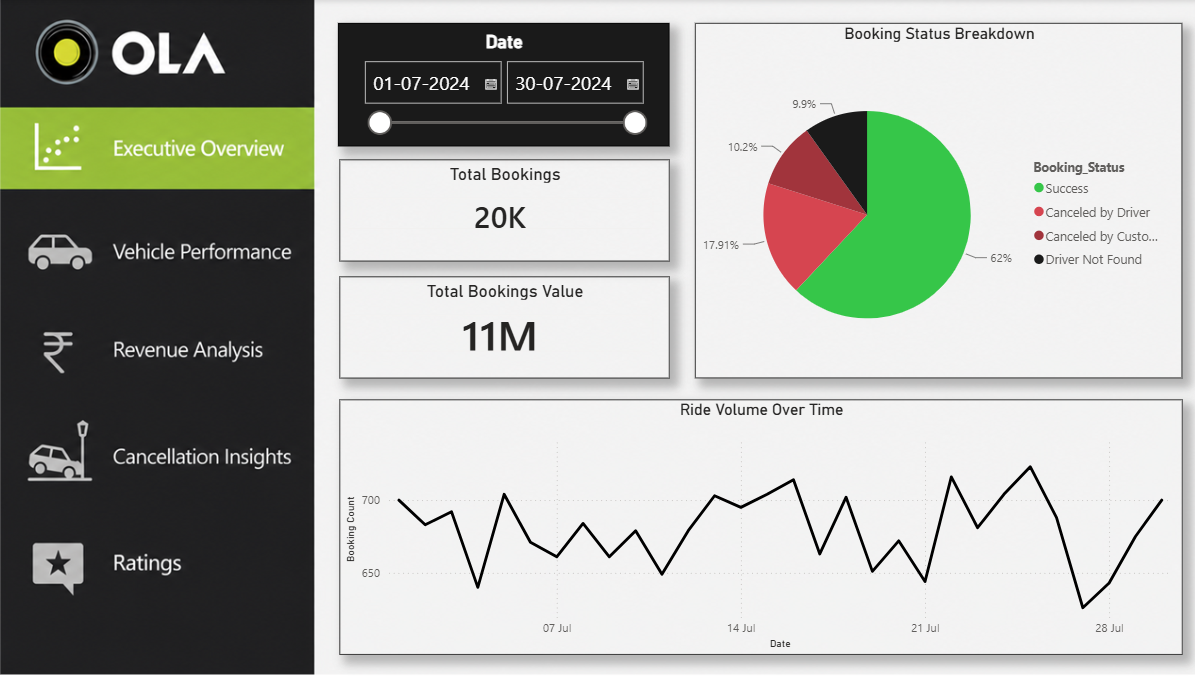

What the dashboard file says about the page in this screenshot:
{"tool":"powerbi","page":{"name":"Overall","canvas":[1280,720],"ordinal":0},"visuals":[{"type":"actionButton","box":[3.2,559.9,332.4,87.5],"z":0},{"type":"actionButton","box":[0,442.2,335.6,97],"z":1000},{"type":"actionButton","box":[1.6,332.4,334,81.1],"z":2000},{"type":"actionButton","box":[0,224.3,335.6,90.7],"z":3000},{"type":"actionButton","box":[1.6,112.9,334,89.1],"z":4000},{"type":"lineChart","title":"Ride Volume Over Time","fields":{"Category":["Bookings.Date"],"Y":["CountNonNull(Bookings.Booking_ID)"]},"box":[364.2,424.7,893.9,270.4],"z":5000},{"type":"pieChart","title":"Booking Status Breakdown","fields":{"Category":["Bookings.Booking_Status"],"Y":["CountNonNull(Bookings.Booking_Status)"]},"box":[741.2,25.4,516.9,377],"z":6000},{"type":"slicer","title":"Date","fields":{"Values":["Bookings.Date"]},"box":[362.7,25.4,351.5,130.4],"z":7000},{"type":"cardVisual","title":"Total Bookings","fields":{"Data":["CountNonNull(Bookings.Booking_ID)"]},"box":[364.2,170.2,349.9,108.2],"z":8000},{"type":"cardVisual","title":"Total Bookings Value","fields":{"Data":["Sum(Bookings.Booking_Value)"]},"box":[364.2,294.3,349.9,108.2],"z":9000}]}

Visuals, with their boxes in screenshot pixels (x1, y1, x2, y2), scaled from the page's 1280x720 canvas onto the 1195x677 screenshot:
actionButton: Rect(3, 526, 313, 609)
actionButton: Rect(0, 416, 313, 507)
actionButton: Rect(1, 313, 313, 389)
actionButton: Rect(0, 211, 313, 296)
actionButton: Rect(1, 106, 313, 190)
"Ride Volume Over Time" lineChart: Rect(340, 399, 1175, 654)
"Booking Status Breakdown" pieChart: Rect(692, 24, 1175, 378)
"Date" slicer: Rect(339, 24, 667, 146)
"Total Bookings" cardVisual: Rect(340, 160, 667, 262)
"Total Bookings Value" cardVisual: Rect(340, 277, 667, 378)
